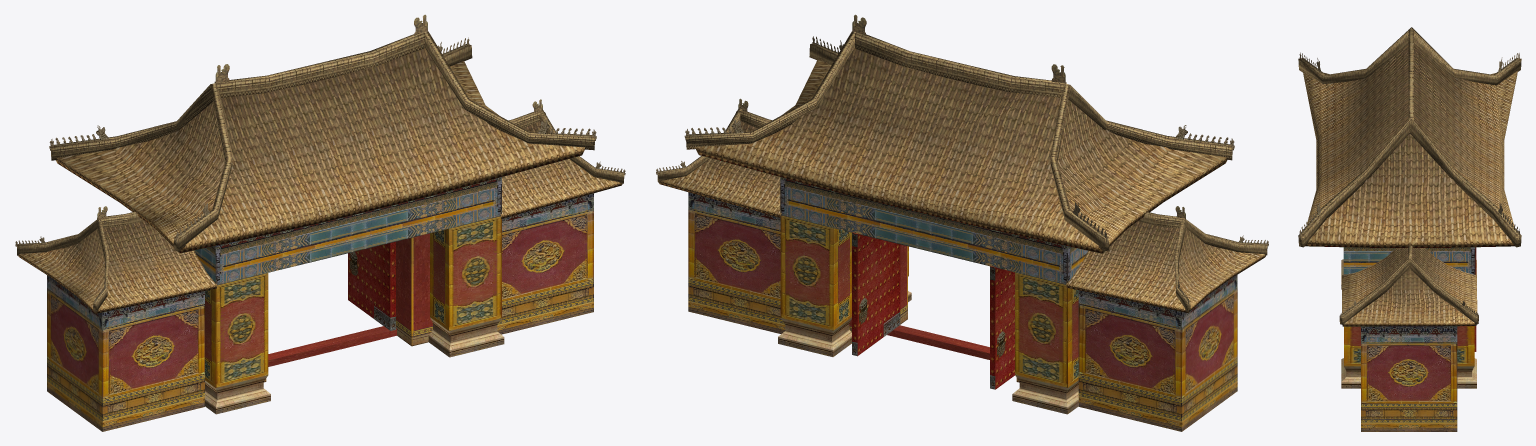
The model's file is cj_pal_bigdoor.glb.
The picture shows the model from 3 angles, left to right: view 1: azimuth 30°, elevation 25°; view 2: azimuth 150°, elevation 25°; view 3: azimuth 270°, elevation 25°; orthographic projection. The views are drawn at different scales.
Parts seen in each view (by area): view 1: CJ_pal_bigdoor_roof01, CJ_pal_bigdoor_wall01, CJ_pal_bigdoor_door, CJ_pal_bigdoor_roof03_al, CJ_pal_bigdoor_roof02_al; view 2: CJ_pal_bigdoor_roof01, CJ_pal_bigdoor_wall01, CJ_pal_bigdoor_door, CJ_pal_bigdoor_roof03_al, CJ_pal_bigdoor_roof02_al; view 3: CJ_pal_bigdoor_roof01, CJ_pal_bigdoor_wall01, CJ_pal_bigdoor_roof03_al.
Part boxes in pixels (x1,y1,x2,y2): CJ_pal_bigdoor_roof01: (17, 31, 624, 313); CJ_pal_bigdoor_wall01: (47, 177, 593, 431); CJ_pal_bigdoor_door: (348, 241, 395, 330); CJ_pal_bigdoor_roof03_al: (15, 37, 625, 304); CJ_pal_bigdoor_roof02_al: (97, 14, 542, 218); CJ_pal_bigdoor_roof01: (657, 31, 1267, 312); CJ_pal_bigdoor_wall01: (688, 177, 1237, 431); CJ_pal_bigdoor_door: (852, 232, 1014, 389); CJ_pal_bigdoor_roof03_al: (656, 36, 1268, 303); CJ_pal_bigdoor_roof02_al: (738, 14, 1185, 222); CJ_pal_bigdoor_roof01: (1298, 27, 1521, 326); CJ_pal_bigdoor_wall01: (1341, 247, 1476, 431); CJ_pal_bigdoor_roof03_al: (1299, 52, 1520, 317).
Bounding box in the file's own units: 33.08 × 18.43 × 13.82.
Materials: 5 (5 with a texture image).
